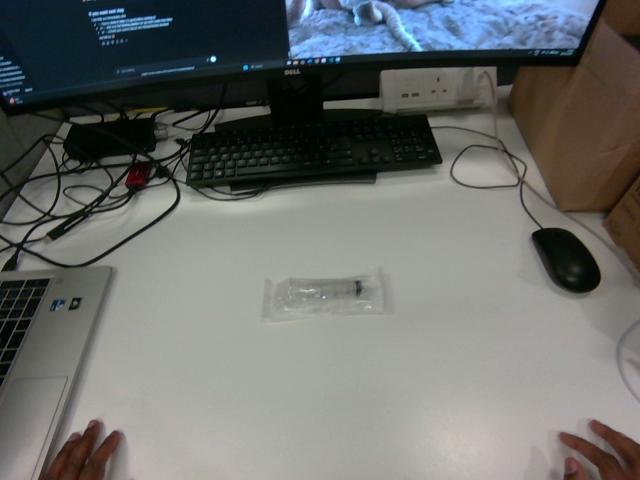syringe: (263, 269, 383, 321)
